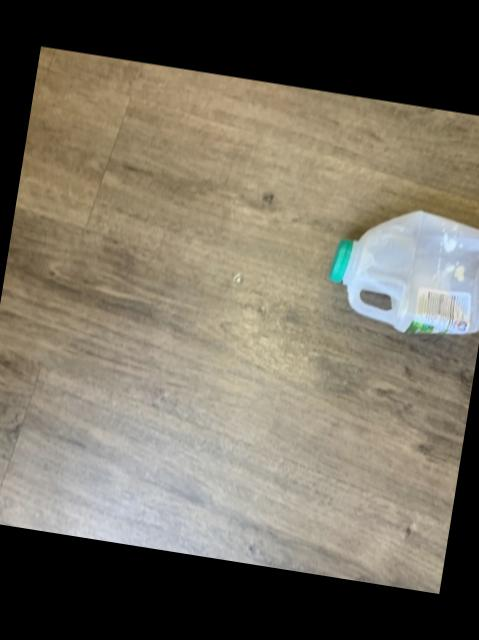plastic: (327, 209, 479, 332)
